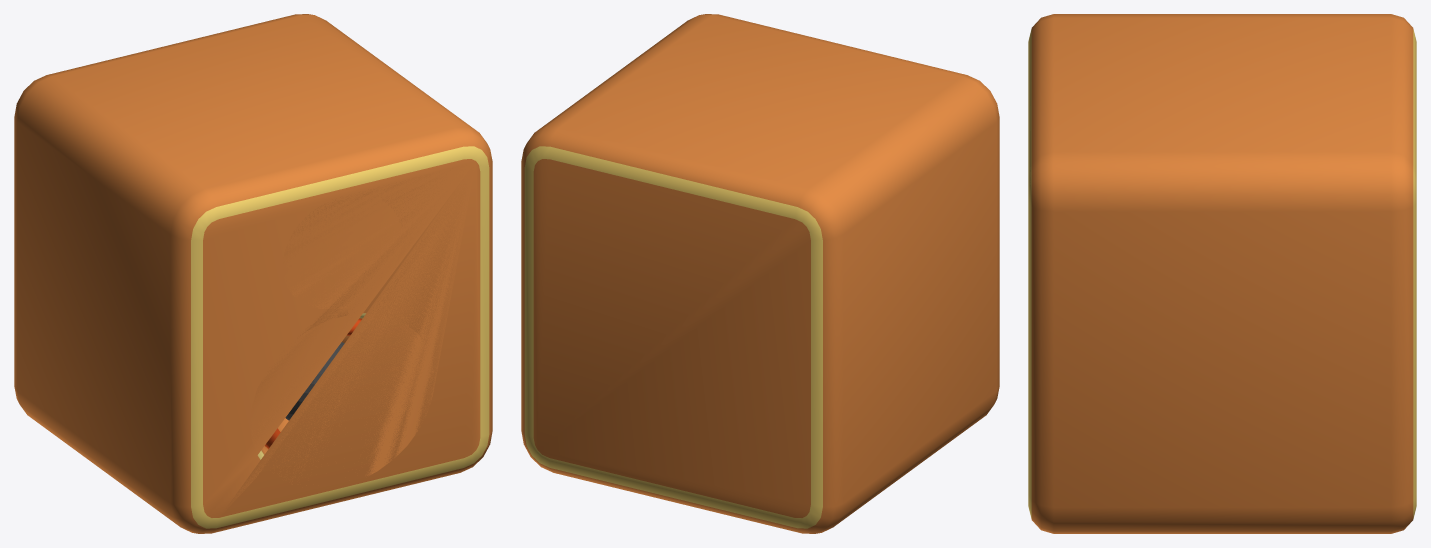
File: SmallSpeaker.fbx
3 views of the same model, side by side, from view 1: azimuth 30°, elevation 25°; view 2: azimuth 150°, elevation 25°; view 3: azimuth 270°, elevation 25° (orthographic). The views are drawn at different scales.
Parts seen in each view (by area): view 1: SpeakerResized; view 2: SpeakerResized; view 3: SpeakerResized.
Boxes of the visible parts, bbox=[...] form: SpeakerResized: bbox=[14, 14, 492, 533]; SpeakerResized: bbox=[521, 14, 999, 533]; SpeakerResized: bbox=[1028, 14, 1416, 533].
Size of the model in its own units: 97.26 by 100 by 93.18.
